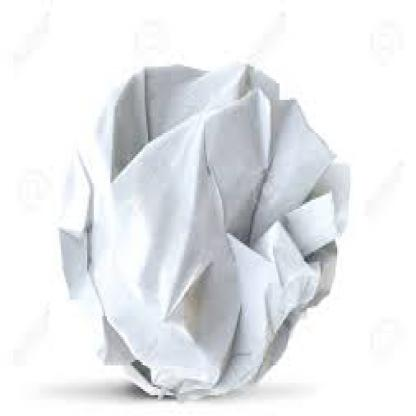paper: (56, 59, 347, 398)
